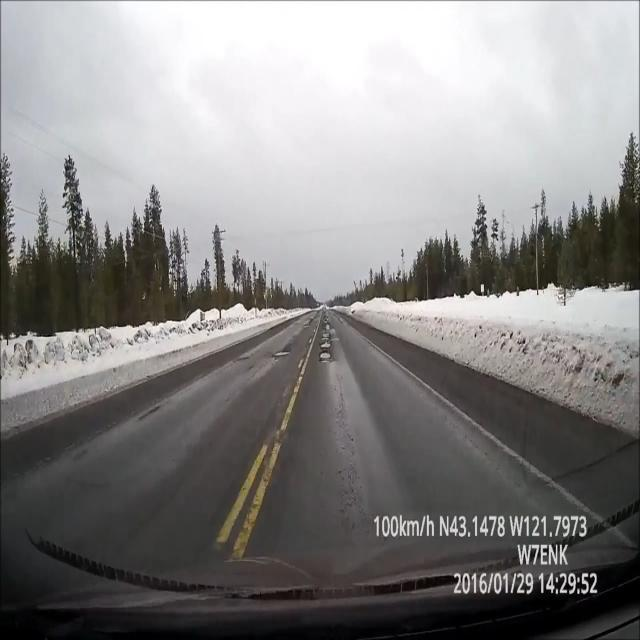pothole: (312, 317, 339, 367)
